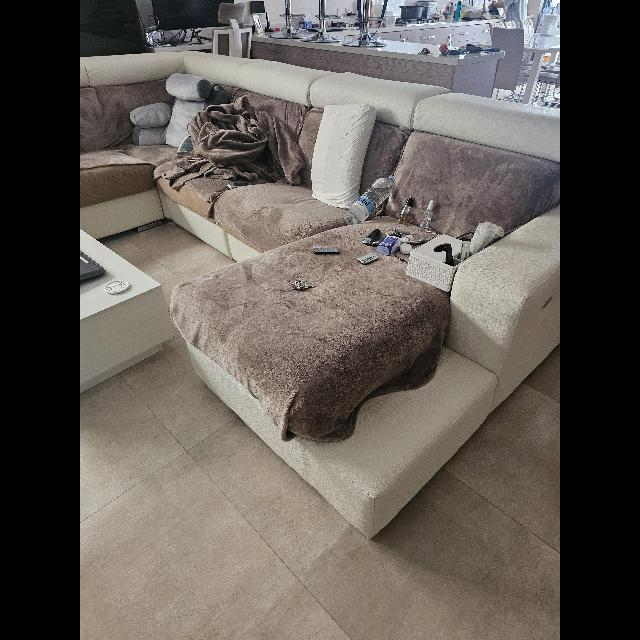Keys: (290, 278, 314, 292)
